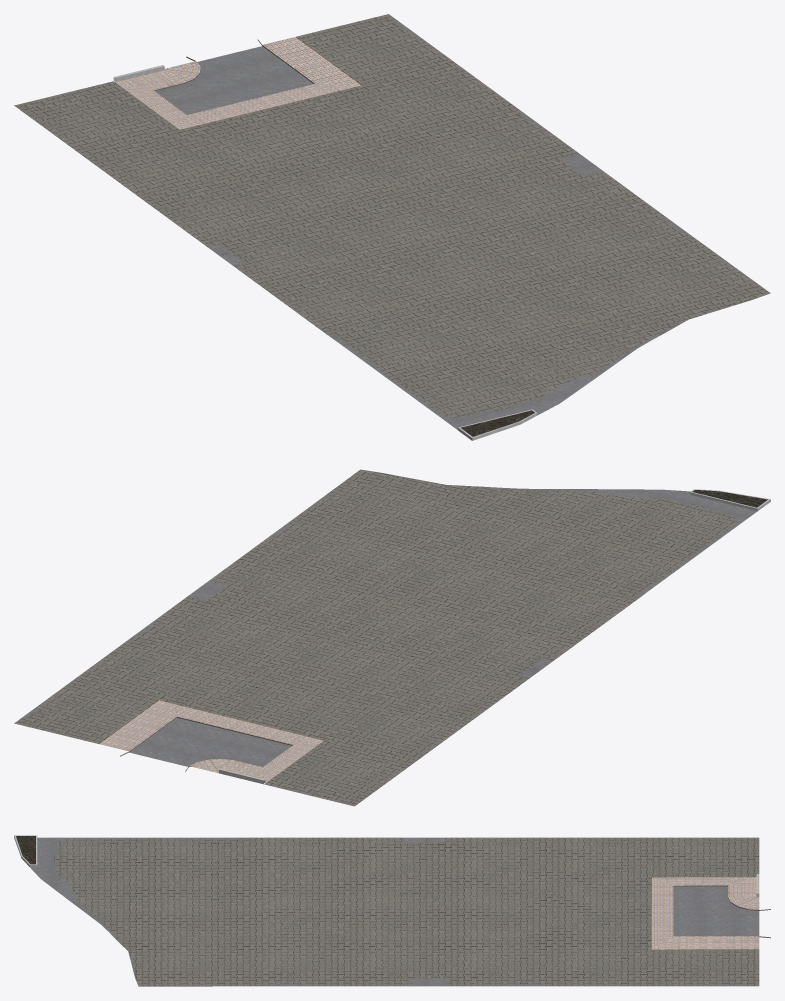
File: figfree1_lan.obj
3 renders of one model, top to bottom at view 1: azimuth 30°, elevation 25°; view 2: azimuth 150°, elevation 25°; view 3: azimuth 270°, elevation 25°, orthographic. The views are drawn at different scales.
Visible parts, largest first — view 1: figfree1_LAn; view 2: figfree1_LAn; view 3: figfree1_LAn.
Part boxes in pixels (x1,y1,x2,y2): figfree1_LAn: (14, 14, 770, 440); figfree1_LAn: (14, 469, 770, 806); figfree1_LAn: (14, 835, 770, 986).
Bounding box in the file's own units: 56.74 × 0.8085 × 122.
